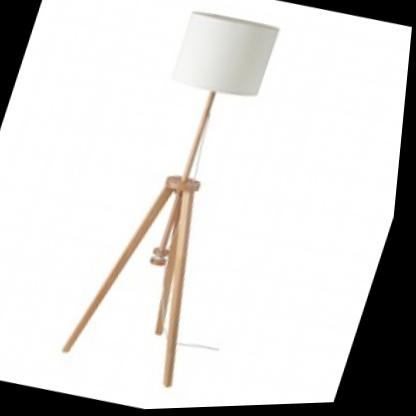Lamp: (22, 0, 324, 409)
